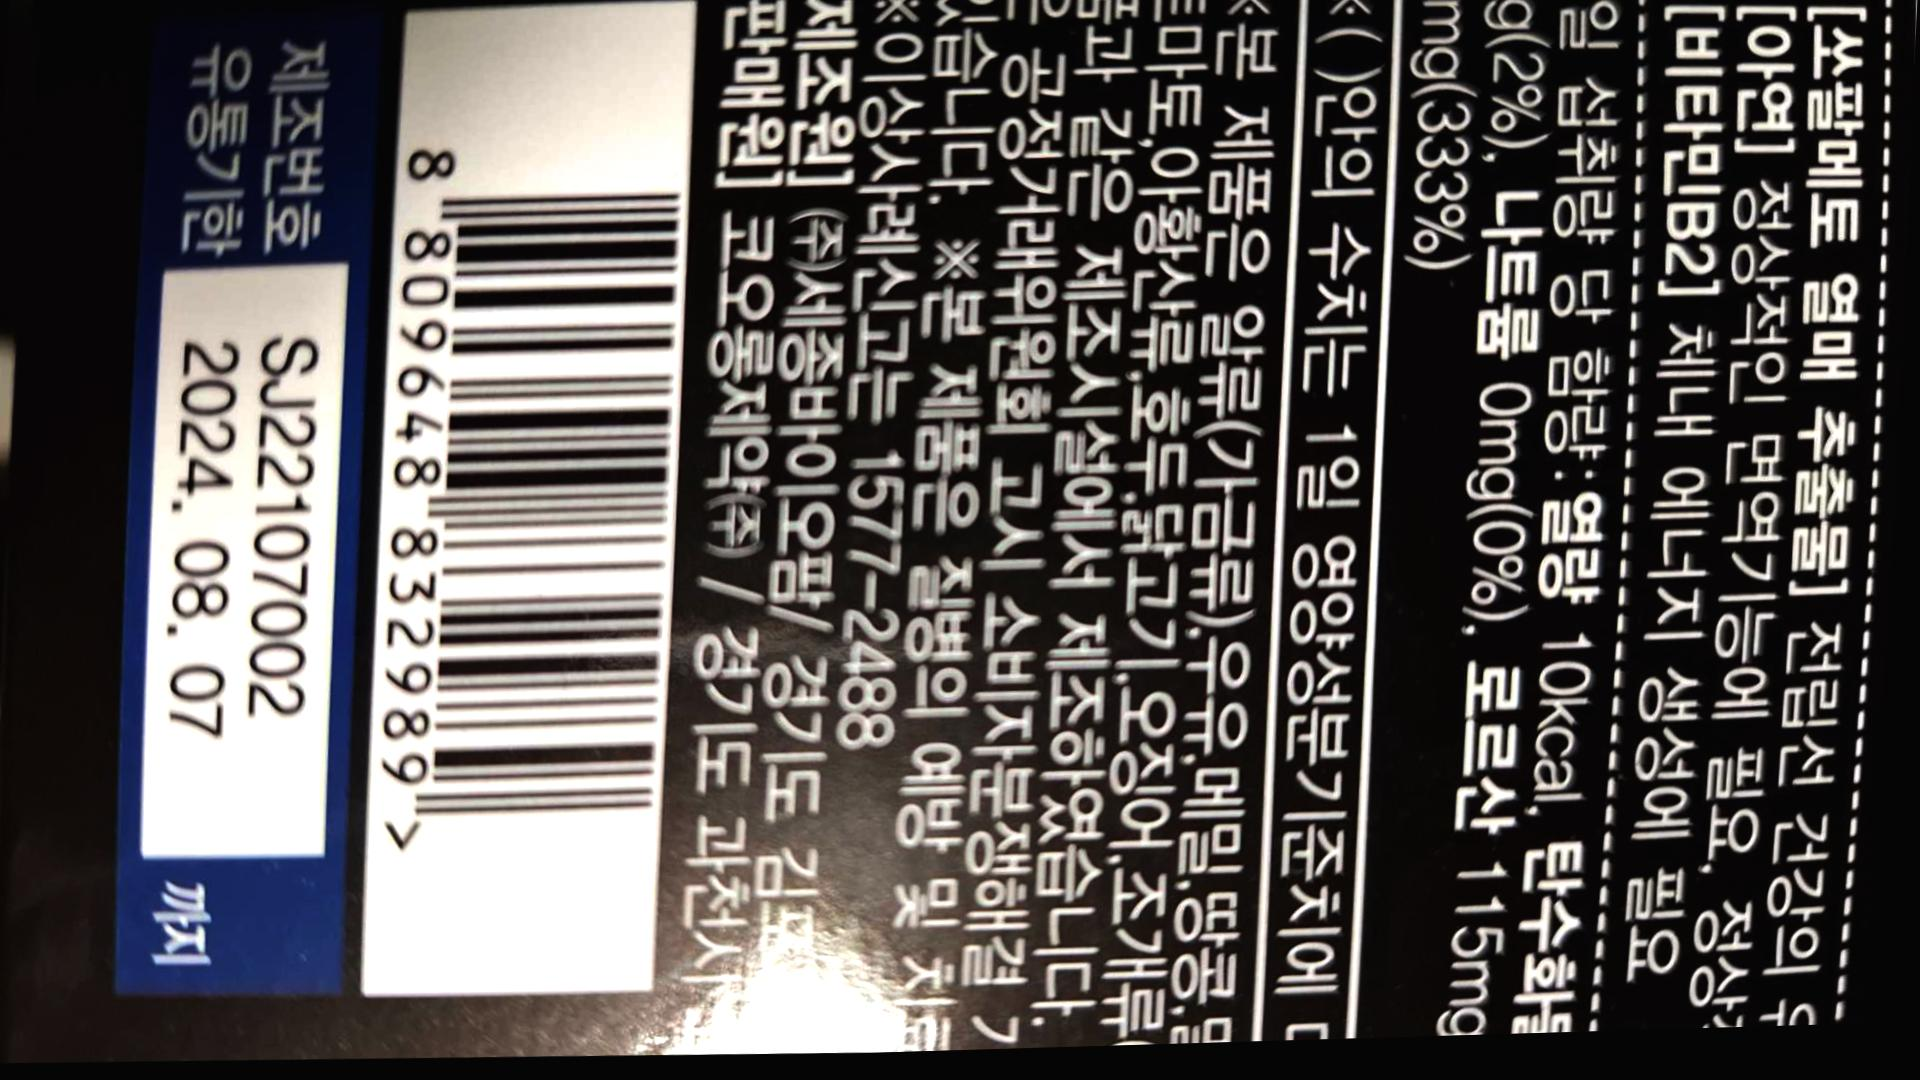chicken-6500-2024-8-27: (349, 129, 705, 872)
